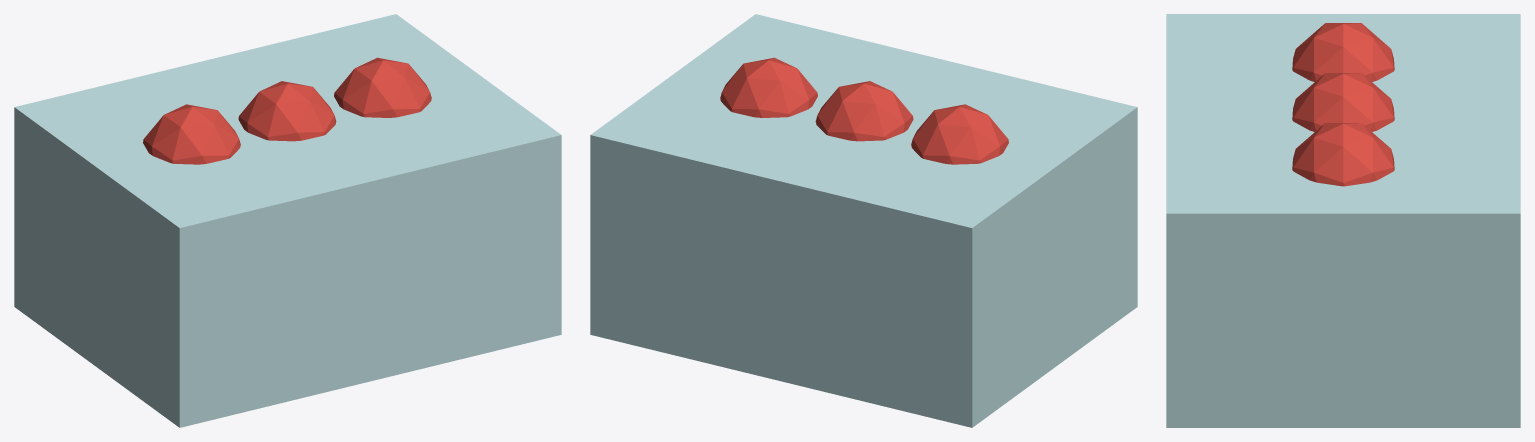
Rendered from sm_product_strawberries.glb.
3 renders of one model, left to right at view 1: azimuth 30°, elevation 25°; view 2: azimuth 150°, elevation 25°; view 3: azimuth 270°, elevation 25°, orthographic. The views are drawn at different scales.
Visible parts, largest first — view 1: strawberries_0, strawberries_3, strawberries_1, strawberries_2; view 2: strawberries_0, strawberries_3, strawberries_1, strawberries_2; view 3: strawberries_0, strawberries_3, strawberries_1, strawberries_2.
Boxes of the visible parts, bbox=[...] form: strawberries_0: bbox=[14, 14, 561, 427]; strawberries_3: bbox=[334, 57, 431, 117]; strawberries_1: bbox=[143, 104, 240, 164]; strawberries_2: bbox=[238, 81, 336, 141]; strawberries_0: bbox=[590, 14, 1137, 427]; strawberries_3: bbox=[720, 57, 817, 117]; strawberries_1: bbox=[911, 104, 1008, 164]; strawberries_2: bbox=[815, 81, 913, 141]; strawberries_0: bbox=[1166, 14, 1520, 427]; strawberries_3: bbox=[1292, 123, 1394, 186]; strawberries_1: bbox=[1292, 23, 1394, 81]; strawberries_2: bbox=[1292, 73, 1394, 131].
Size of what is drawn, in the model's own units: 0.16 by 0.095 by 0.12.
